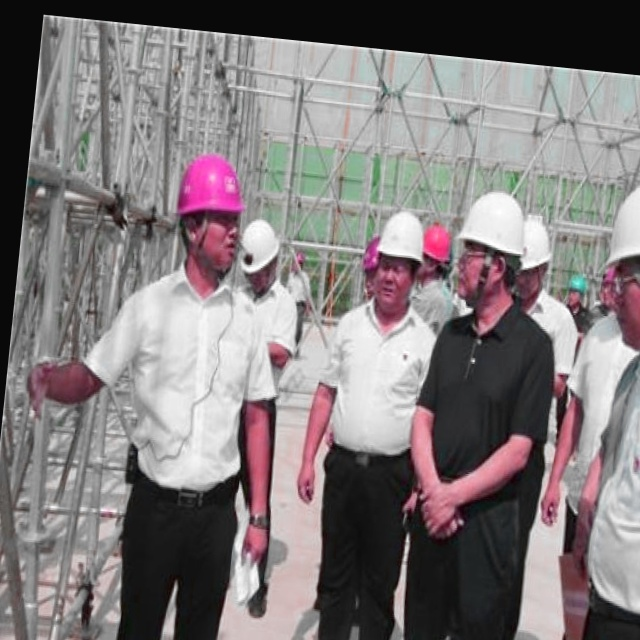Sin_Chaleco: (121, 266, 264, 493), (416, 303, 558, 502), (323, 298, 440, 469)
